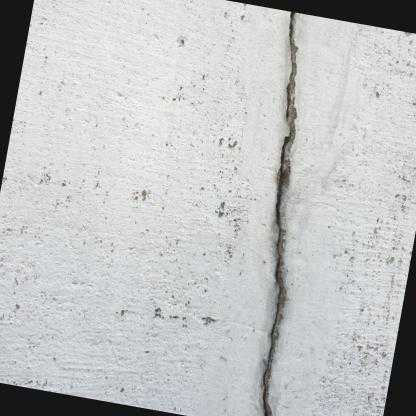crack: (261, 11, 298, 416)
